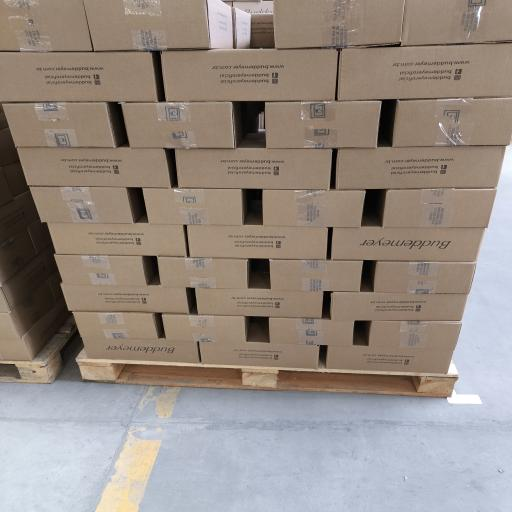pallet: (77, 351, 458, 397), (0, 315, 76, 383)
